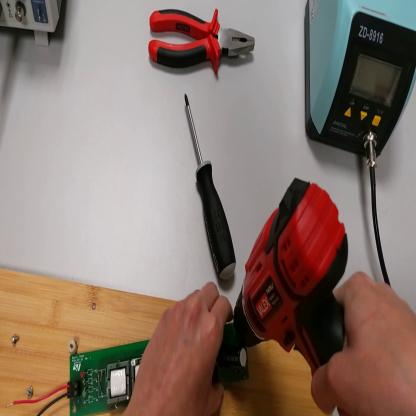electric screwdriver: (230, 173, 358, 381)
hand: (313, 272, 416, 416), (124, 284, 234, 414)
high voltage board: (14, 317, 249, 412)
oscilloscope: (2, 1, 64, 49)
pliers: (150, 7, 262, 78)
screwdriver-: (183, 89, 239, 292)
welder station: (301, 3, 416, 157)
working area: (2, 271, 325, 416)
